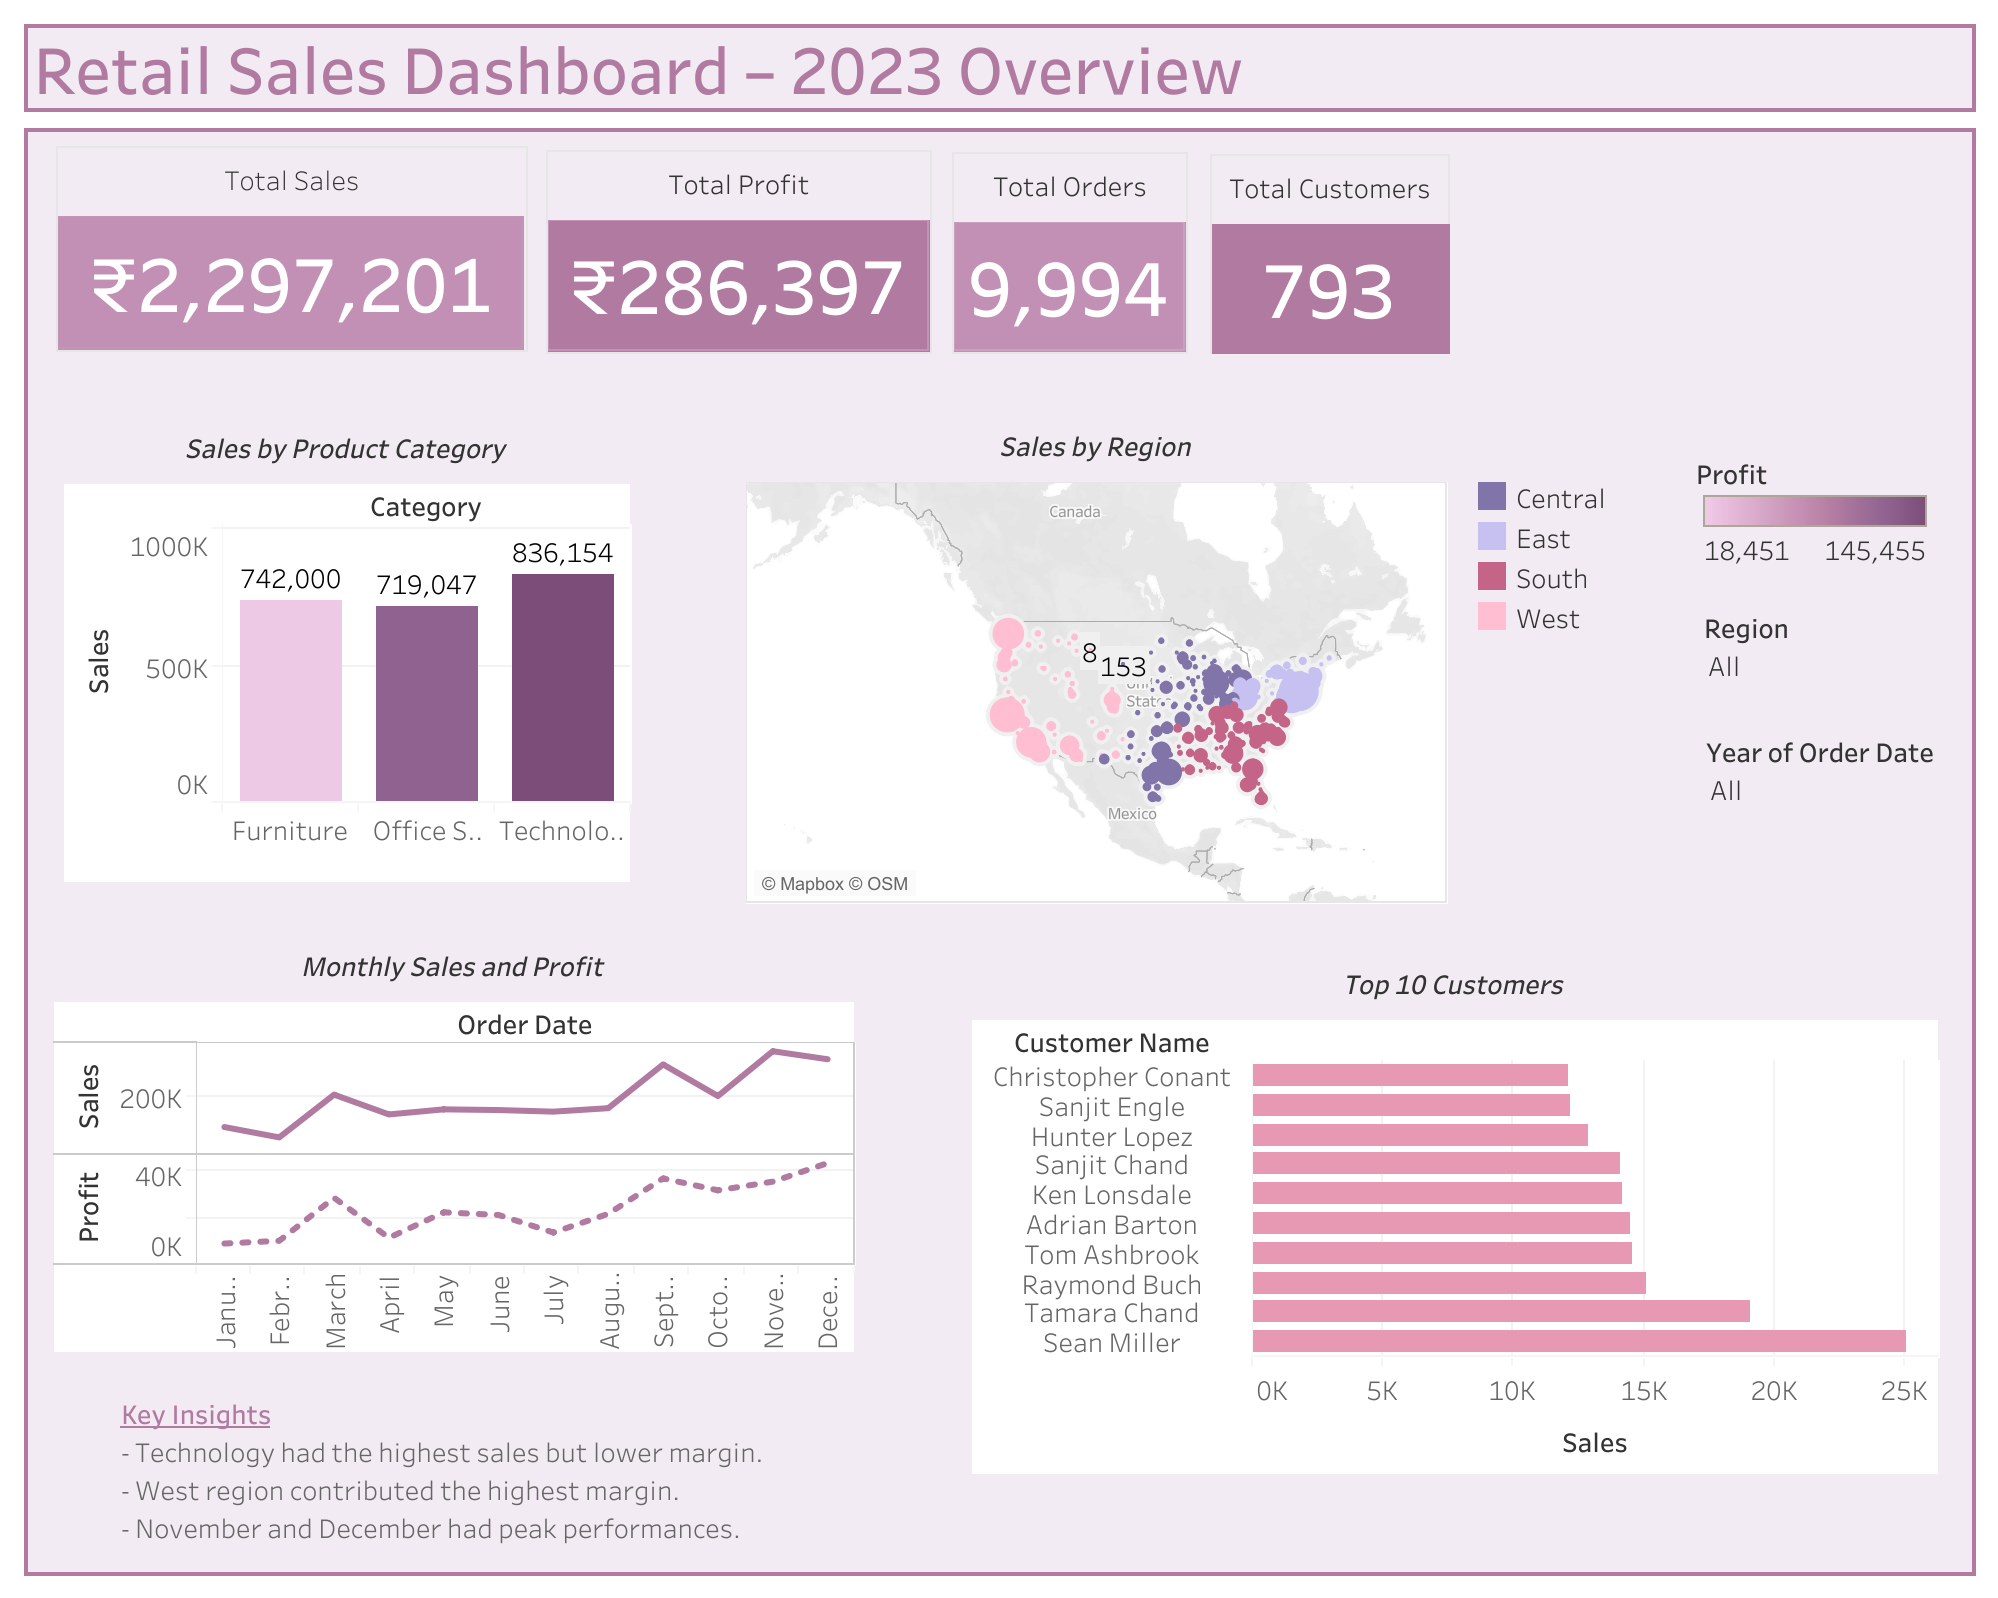

The page's visual inventory and layout, read from the dashboard file:
{"tool":"tableau","page":{"name":"Dashboard 2","canvas":[1000,800],"ordinal":0},"visuals":[{"type":"title","box":[8,8,984,52]},{"type":"text","box":[8,60,984,732]},{"type":"worksheet","title":"Sheet 5","mark":"Automatic","box":[28,73,236,103]},{"type":"worksheet","title":"Sheet 7","mark":"Automatic","box":[273,75,193,102]},{"type":"worksheet","title":"Sheet 6","mark":"Automatic","box":[476,76,118,101]},{"type":"worksheet","title":"Total Customers","mark":"Automatic","box":[605,77,120,100]},{"type":"worksheet","title":"Sheet 2","mark":"Pie","box":[373,207,351,245]},{"type":"worksheet","title":"Sheet 1","mark":"Automatic","rows":["Sales"],"cols":["Category"],"box":[32,208,284,233]},{"type":"legend","title":"Sheet 1","param":"[federated.1x4u53x14ss74b177zw3t1gpt3fs].[sum:Profit:qk]","box":[848,223,120,60]},{"type":"legend","title":"Sheet 2","param":"[federated.1x4u53x14ss74b177zw3t1gpt3fs].[none:Region:nk]","box":[736,238,71,83]},{"type":"filter","title":"Sheet 2","param":"[federated.1x4u53x14ss74b177zw3t1gpt3fs].[none:Region:nk]","box":[852,303,120,44]},{"type":"filter","title":"Sheet 1","param":"[federated.1x4u53x14ss74b177zw3t1gpt3fs].[yr:Order Date:ok]","box":[853,365,120,58]},{"type":"worksheet","title":"Sheet 3","mark":"Automatic","rows":["Sales","Profit"],"cols":["Order Date"],"box":[27,467,401,211]},{"type":"worksheet","title":"Sheet 4","mark":"Automatic","rows":["Customer Name"],"cols":["Sales"],"box":[486,476,483,261]},{"type":"text","box":[58,693,341,84]}]}

Visuals, with their boxes in screenshot pixels (x1, y1, x2, y2), scaled from the page's 1000x800 canvas onto the 1998x1598 screenshot:
title: pyautogui.locateOnScreen(16, 16, 1982, 120)
text: pyautogui.locateOnScreen(16, 120, 1982, 1582)
"Sheet 5" worksheet: pyautogui.locateOnScreen(56, 146, 527, 352)
"Sheet 7" worksheet: pyautogui.locateOnScreen(545, 150, 931, 354)
"Sheet 6" worksheet: pyautogui.locateOnScreen(951, 152, 1187, 354)
"Total Customers" worksheet: pyautogui.locateOnScreen(1209, 154, 1449, 354)
"Sheet 2" worksheet (Pie marks): pyautogui.locateOnScreen(745, 413, 1447, 903)
"Sheet 1" worksheet: pyautogui.locateOnScreen(64, 415, 631, 881)
"Sheet 1" legend: pyautogui.locateOnScreen(1694, 445, 1934, 565)
"Sheet 2" legend: pyautogui.locateOnScreen(1471, 475, 1612, 641)
"Sheet 2" filter: pyautogui.locateOnScreen(1702, 605, 1942, 693)
"Sheet 1" filter: pyautogui.locateOnScreen(1704, 729, 1944, 845)
"Sheet 3" worksheet: pyautogui.locateOnScreen(54, 933, 855, 1354)
"Sheet 4" worksheet: pyautogui.locateOnScreen(971, 951, 1936, 1472)
text: pyautogui.locateOnScreen(116, 1384, 797, 1552)
